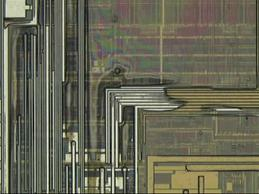COATING BAD: (7, 1, 259, 194)
